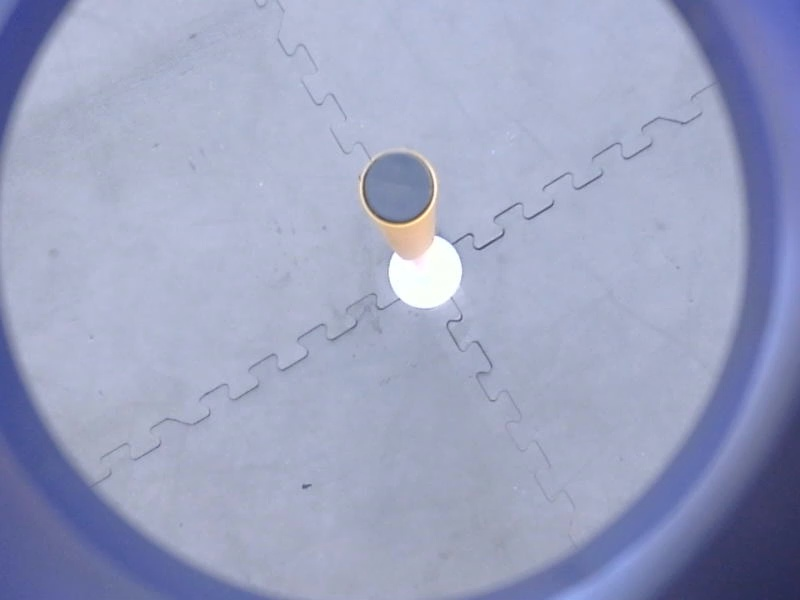tip: (354, 145, 446, 231)
